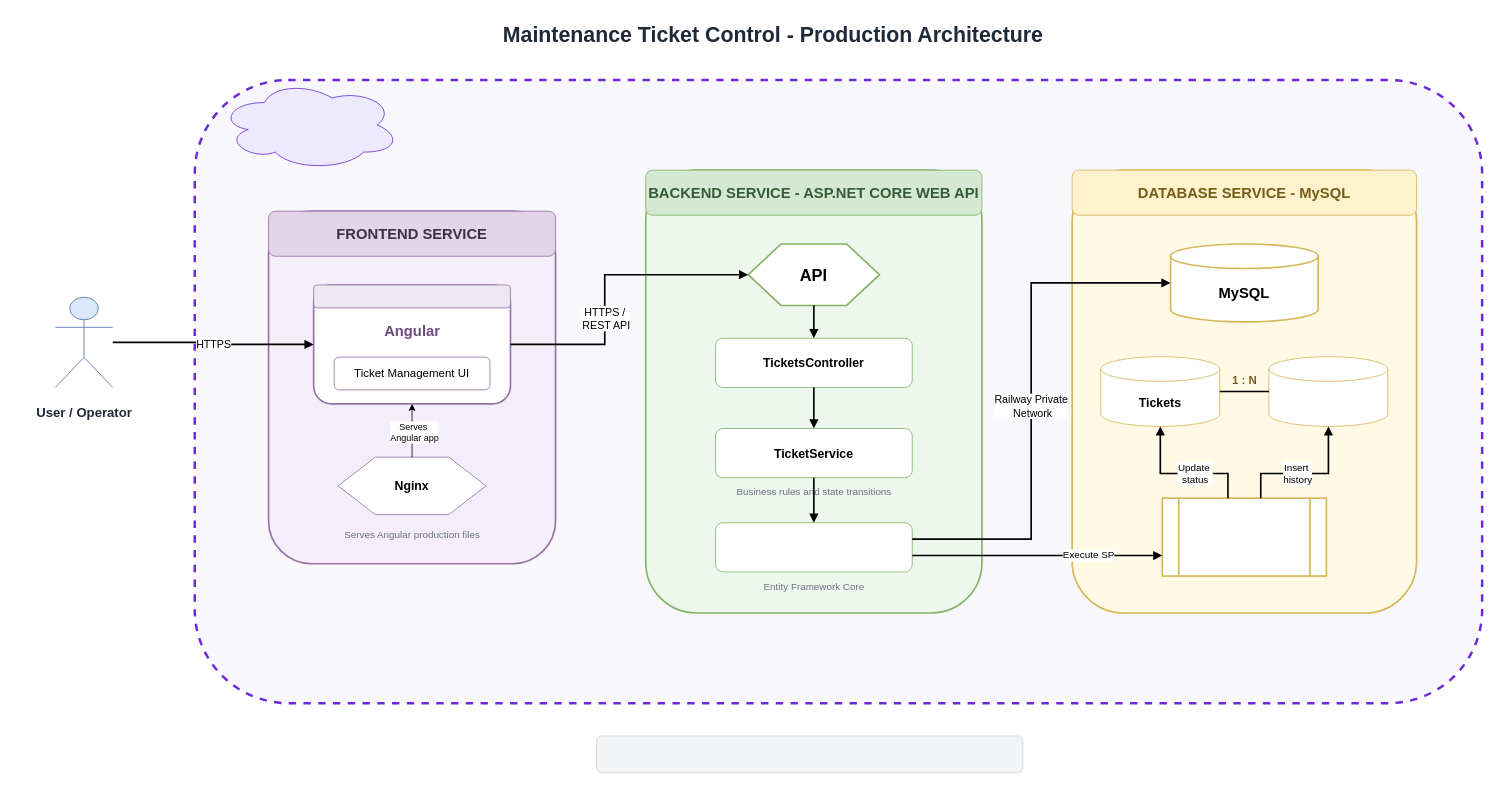
Image size: 1497x787. Some labels were removed from this diagram. Each missing label, with the box of its shape:
ApplicationDbContext: (715, 522, 912, 572)
Production deployment: Angular + ASP.NET Core + MySQL on Railway: (596, 735, 1023, 773)
Railway Cloud: (219, 79, 400, 170)
Stored Procedure sp_change_ticket_status: (1161, 497, 1327, 576)
TicketHistories: (1268, 356, 1388, 426)
